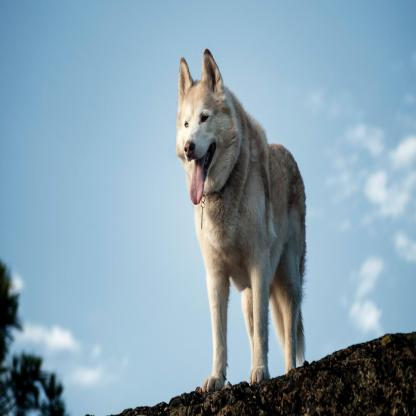husky: (172, 45, 306, 384)
